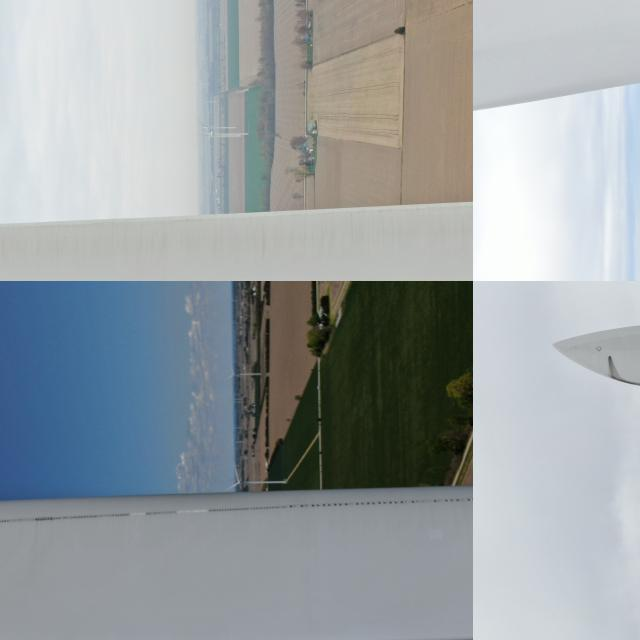damage: (604, 354, 624, 386), (175, 508, 208, 516), (126, 512, 147, 518)
